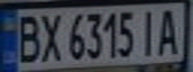1: (100, 8, 121, 59)
3: (84, 9, 106, 60)
5: (115, 7, 139, 57)
6: (63, 9, 87, 61)
A: (154, 4, 184, 56)
B: (9, 10, 42, 64)
I: (136, 6, 160, 56)
X: (36, 10, 63, 63)
